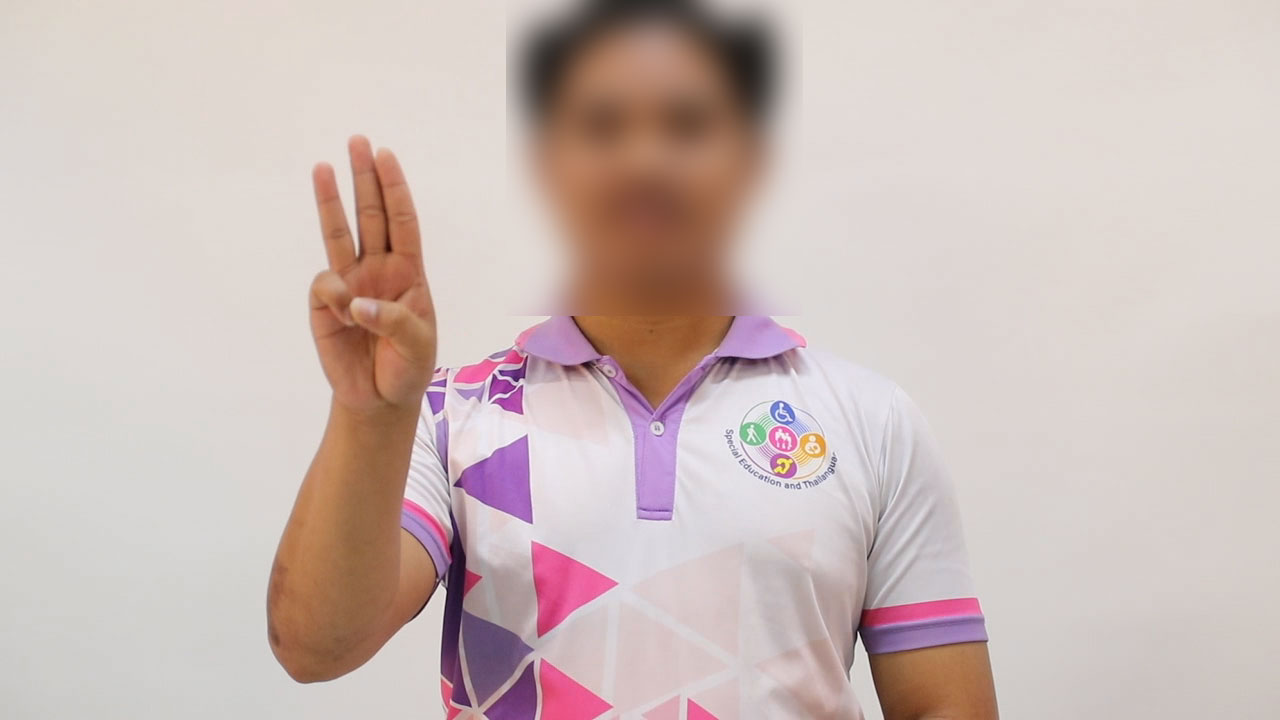wor: (298, 123, 445, 429)
